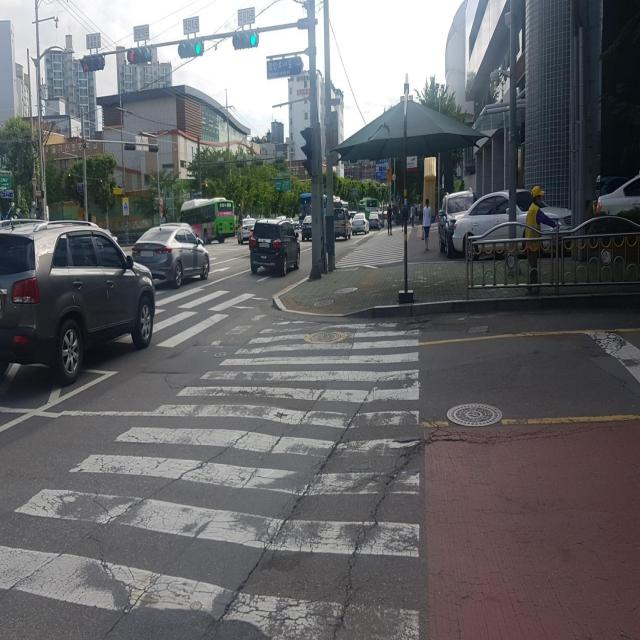횡단보도: (0, 309, 423, 639), (0, 282, 279, 347)
